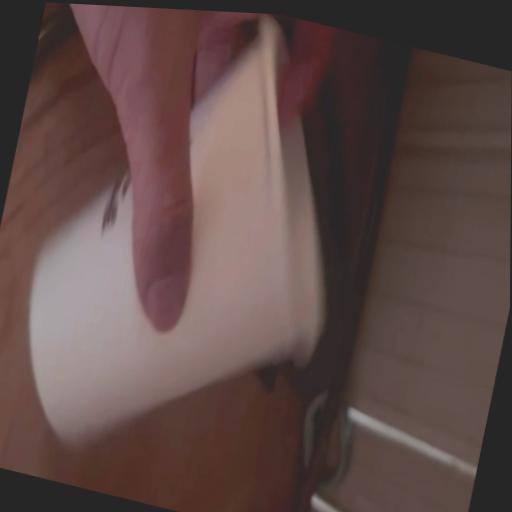Ly_giay: (29, 17, 325, 444)
